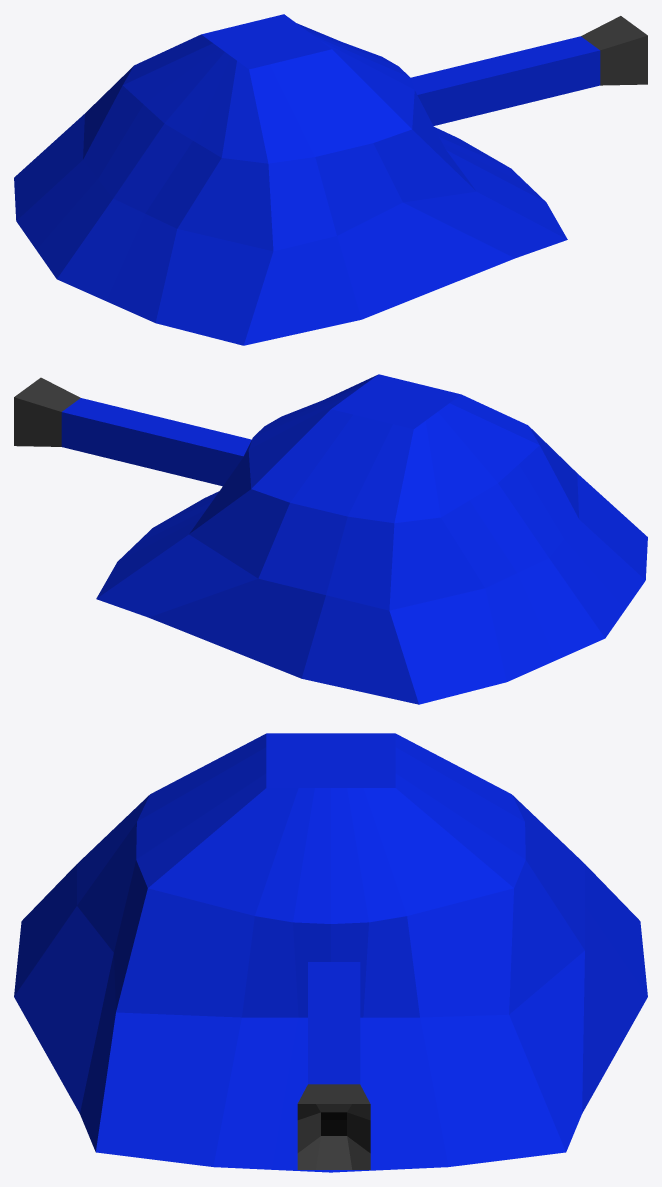
Rendered from playTurret.fbx.
3 renders of one model, top to bottom at view 1: azimuth 30°, elevation 25°; view 2: azimuth 150°, elevation 25°; view 3: azimuth 270°, elevation 25°, orthographic. The views are drawn at different scales.
Parts seen in each view (by area): view 1: Cube; view 2: Cube; view 3: Cube.
Part boxes in pixels (left/top/right/bottom): Cube: left=14, top=14, right=647, bottom=345; Cube: left=14, top=374, right=647, bottom=704; Cube: left=14, top=733, right=647, bottom=1172.
Bounding box in the file's own units: 398 × 122 × 280.
